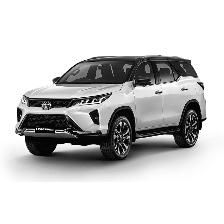NON-EV: (16, 55, 208, 163)
